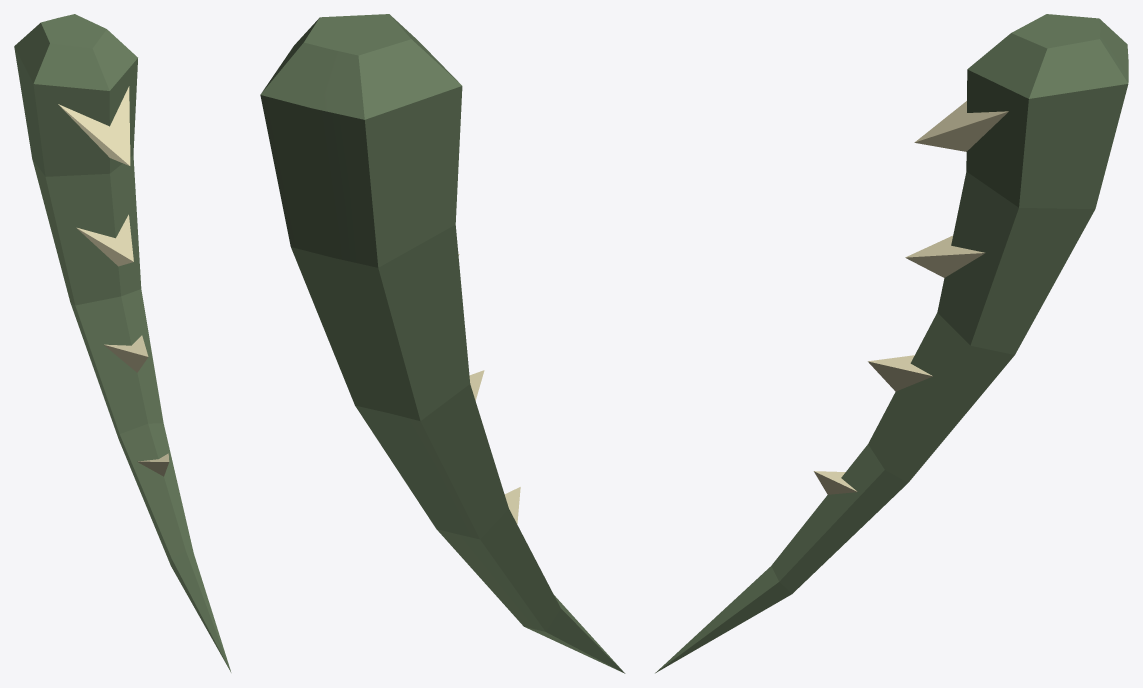
File: LarvaeLegEndLF.fbx
The picture shows the model from 3 angles, left to right: view 1: azimuth 30°, elevation 25°; view 2: azimuth 150°, elevation 25°; view 3: azimuth 270°, elevation 25°; orthographic projection. The views are drawn at different scales.
Visible parts, largest first — view 1: Claw24; view 2: Claw24; view 3: Claw24.
Boxes of the visible parts, bbox=[...] form: Claw24: bbox=[14, 14, 231, 672]; Claw24: bbox=[260, 14, 625, 673]; Claw24: bbox=[655, 14, 1128, 673].
Size of the model in its own units: 0.8081 by 3.84 by 2.54.
